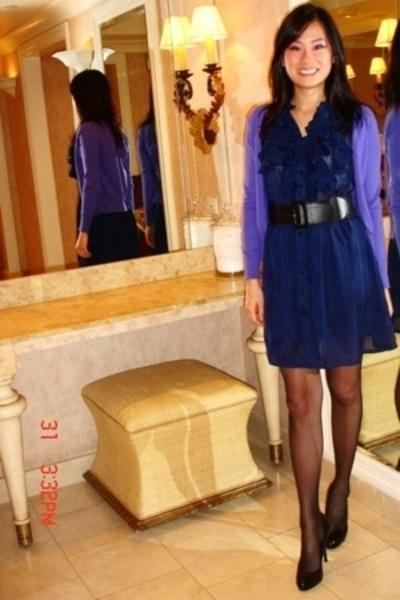dress: (258, 110, 395, 371)
jacket: (242, 108, 390, 299)
shoe: (296, 524, 345, 590)
